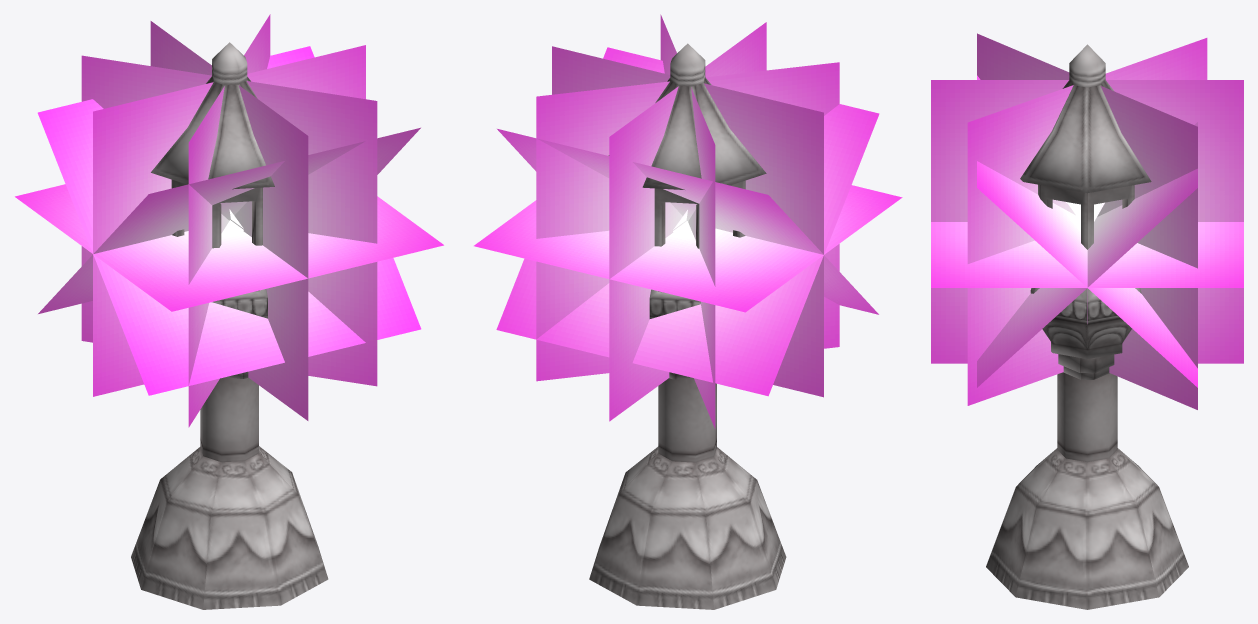
File: a_SWFlamp02.glb
3 views of the same model, side by side, from view 1: azimuth 30°, elevation 25°; view 2: azimuth 150°, elevation 25°; view 3: azimuth 270°, elevation 25° (orthographic).
Parts seen in each view (by area): view 1: a_SWFlamp02; view 2: a_SWFlamp02; view 3: a_SWFlamp02.
Boxes of the visible parts, x1,y1,x2,y2 form: a_SWFlamp02: [15, 14, 443, 609]; a_SWFlamp02: [474, 14, 902, 609]; a_SWFlamp02: [931, 33, 1243, 609].
Size of the model in its own units: 1.22 by 2.25 by 1.22.
3 materials, 3 textured.
